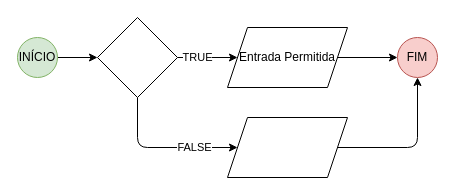
Some shapes in this 455 by 195 pixel diagram are drawn without their labels. The centre of each missing label's shape, as x and y in pixels:
Entrada Negada: [287,147]
idade >= maioridade: [137,57]
